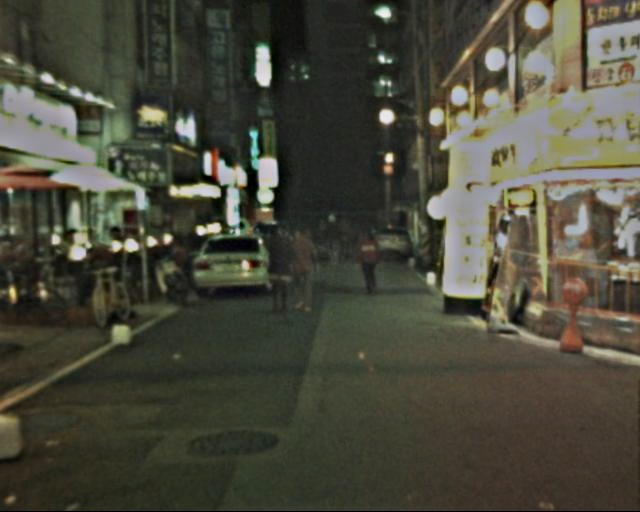person: (288, 225, 325, 321), (263, 224, 296, 321), (358, 227, 388, 296), (320, 209, 347, 271)
